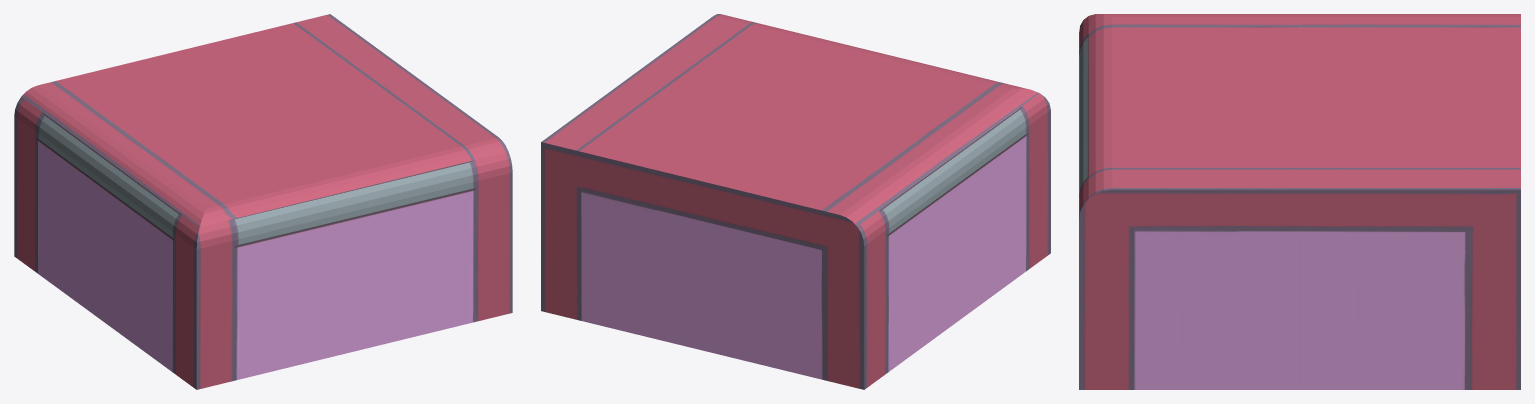
File: baseR.gltf
The picture shows the model from 3 angles, left to right: view 1: azimuth 30°, elevation 25°; view 2: azimuth 150°, elevation 25°; view 3: azimuth 270°, elevation 25°; orthographic projection. The views are drawn at different scales.
Visible parts, largest first — view 1: Cube.002; view 2: Cube.002; view 3: Cube.002.
Boxes of the visible parts, x1,y1,x2,y2 form: Cube.002: (14, 14, 512, 389); Cube.002: (541, 14, 1050, 389); Cube.002: (1079, 14, 1520, 389).
Size of the model in its own units: 2 by 1 by 2.
Materials: 1 (1 with a texture image).
